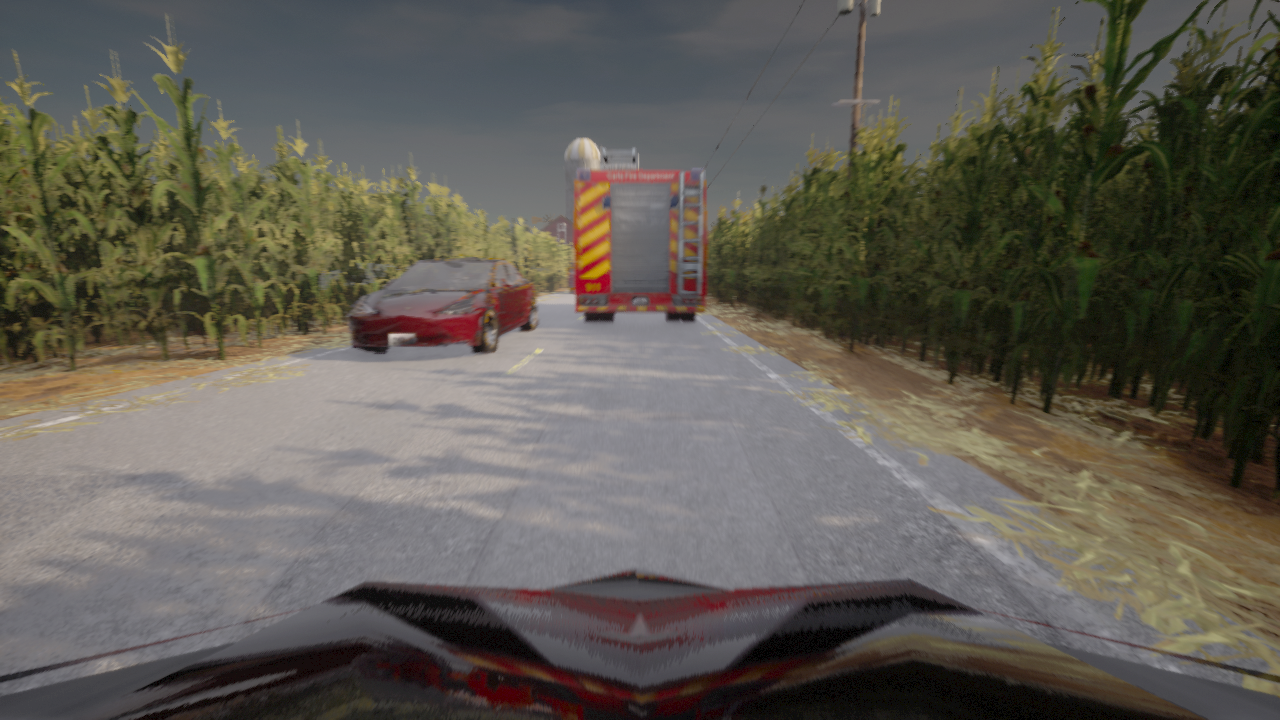cyclist: (0, 569, 1279, 719), (574, 148, 706, 322), (348, 259, 537, 353), (567, 261, 574, 293)
